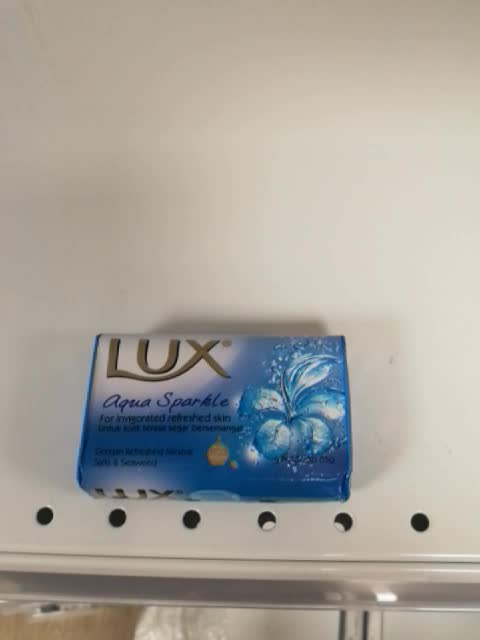soap: (73, 331, 353, 505)
